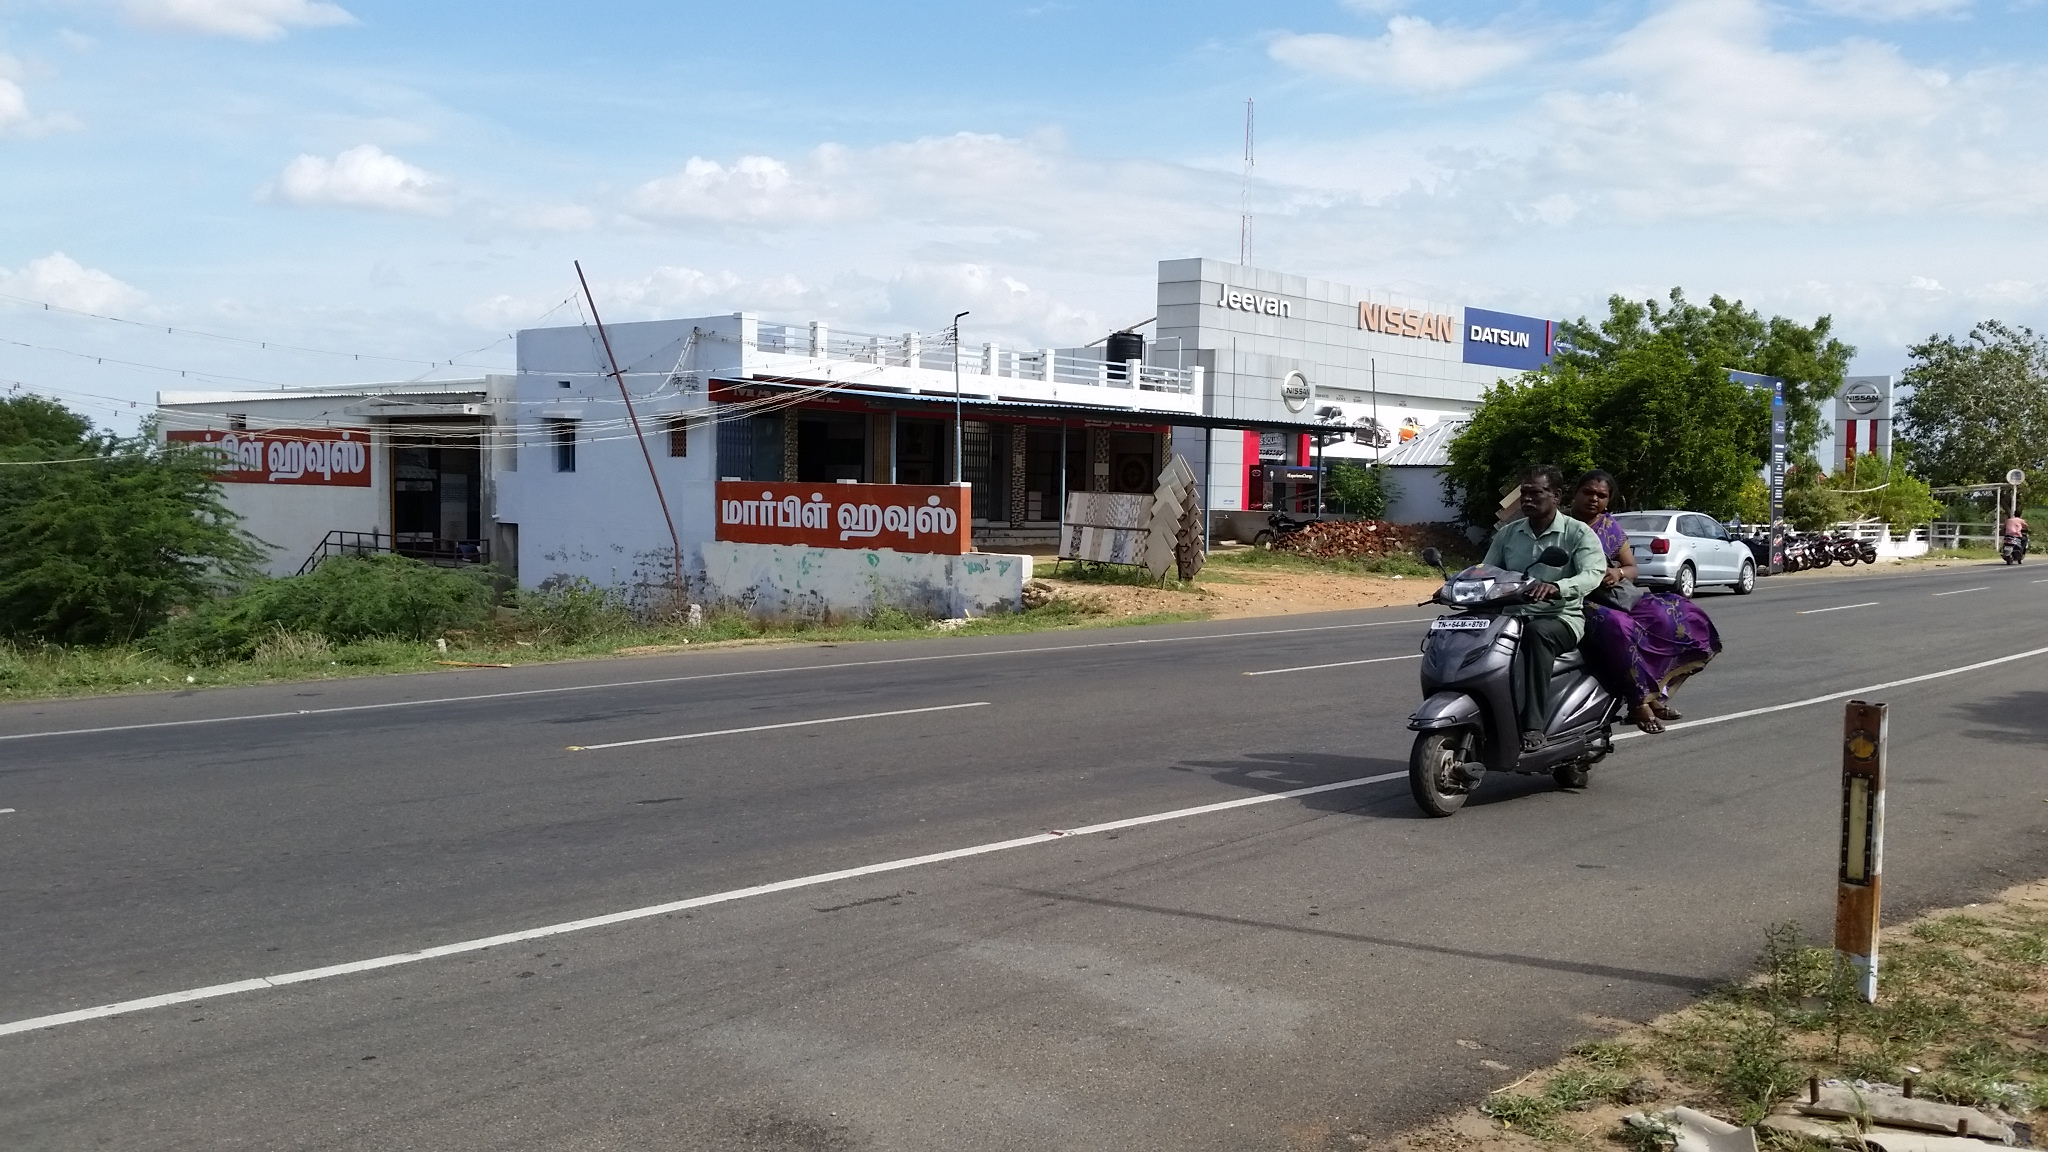biker: (1348, 387, 1737, 842)
nohelmet: (1504, 455, 1574, 532), (1565, 450, 1635, 527)
